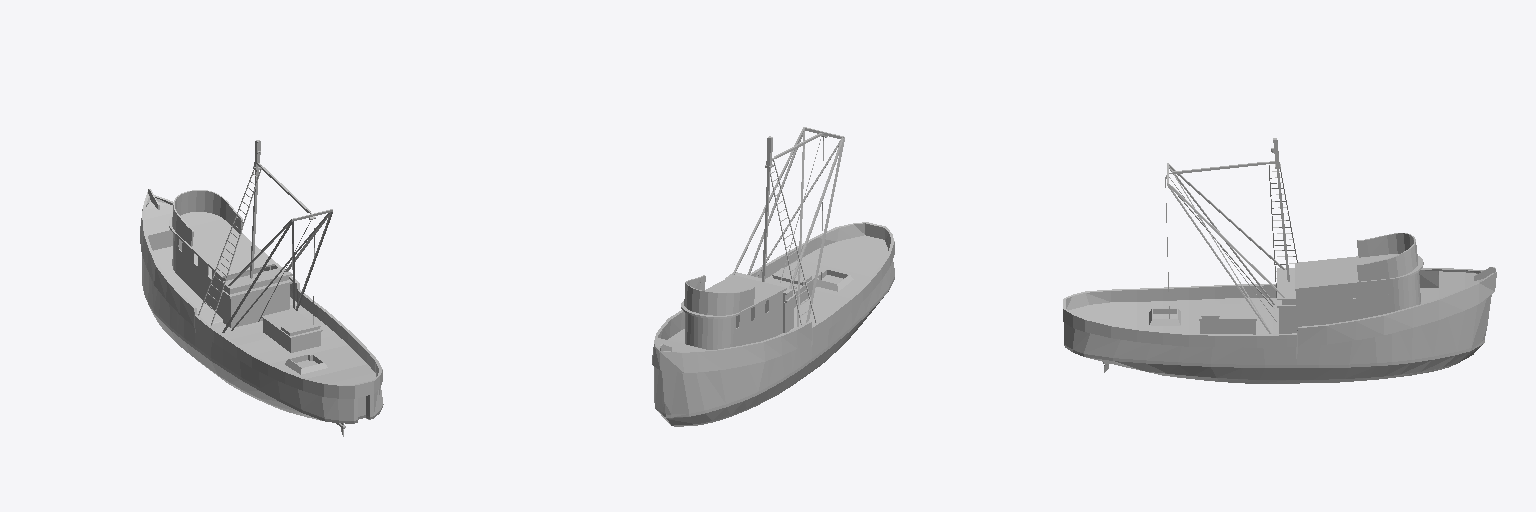
Rendered from fishing-boat.obj.
3 renders of one model, left to right at view 1: azimuth 30°, elevation 25°; view 2: azimuth 150°, elevation 25°; view 3: azimuth 270°, elevation 25°, orthographic.
Visible parts, largest first — view 1: _null_; view 2: _null_; view 3: _null_.
Boxes of the visible parts, <box> form: _null_: <box>140,140,383,436</box>; _null_: <box>652,127,894,426</box>; _null_: <box>1063,138,1496,383</box>.
Bounding box in the file's own units: 3.03 × 6.39 × 10.75.